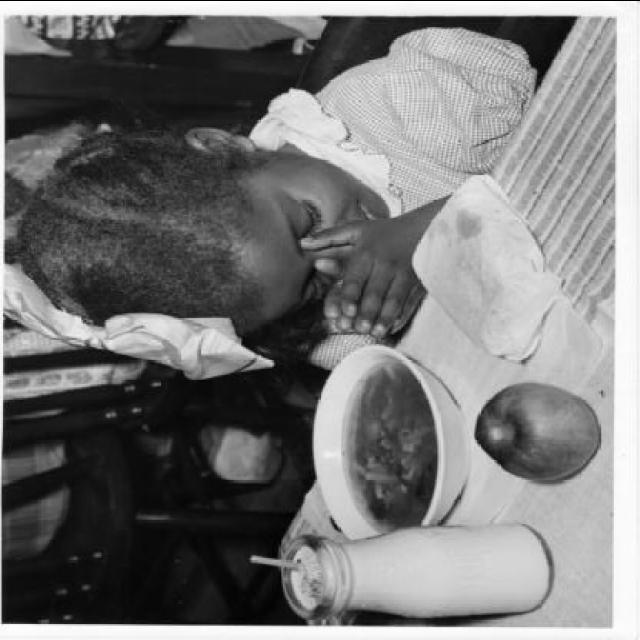Milk: (282, 524, 556, 618)
